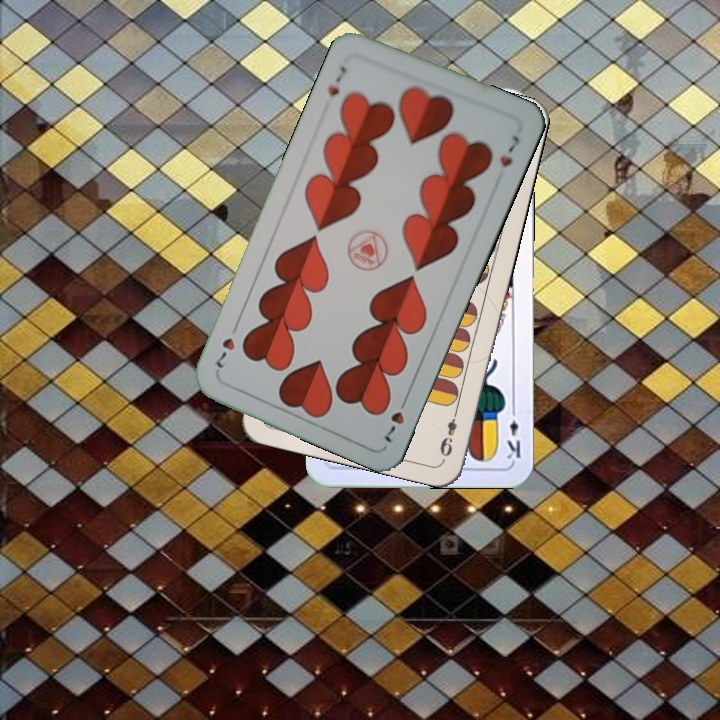E9: (436, 404, 461, 462)
EK: (503, 403, 523, 462)
H7: (381, 391, 411, 445), (324, 61, 349, 99)
